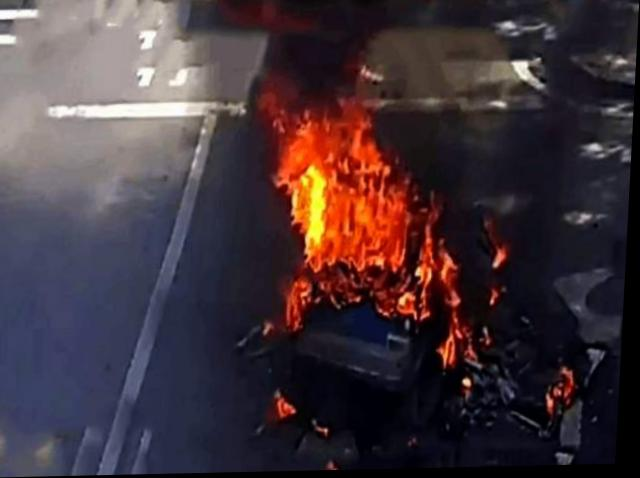fire: (252, 85, 516, 429)
